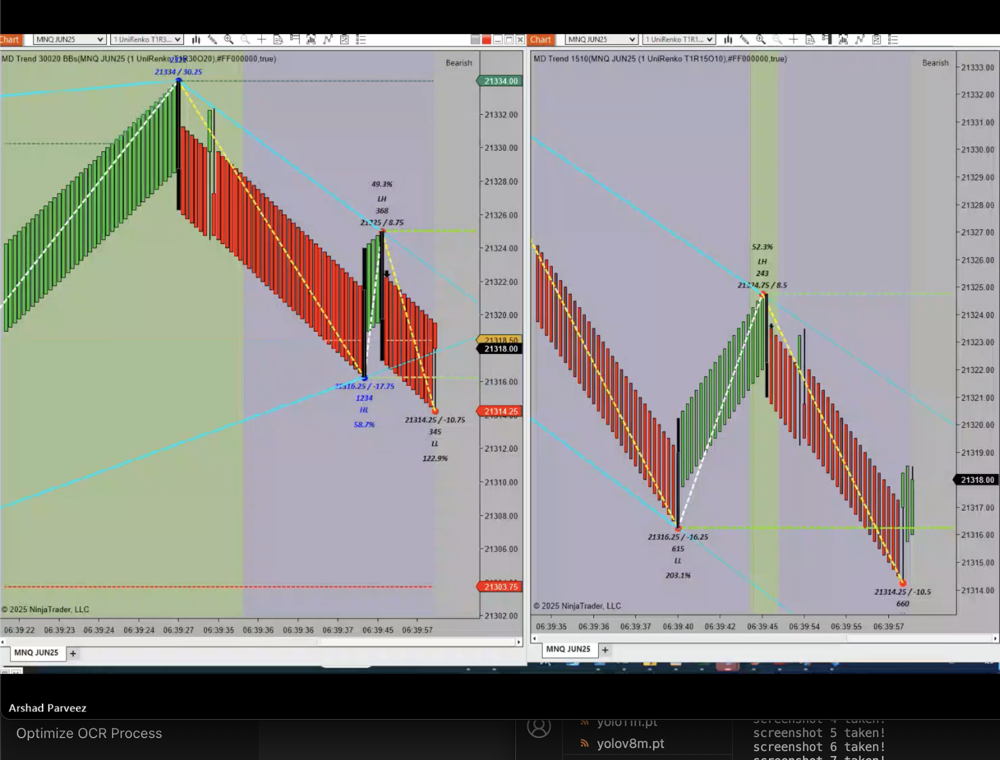HL: (356, 402, 373, 418)
LH: (755, 252, 771, 269), (374, 191, 390, 207)
LL: (427, 437, 443, 452), (670, 553, 686, 567)
